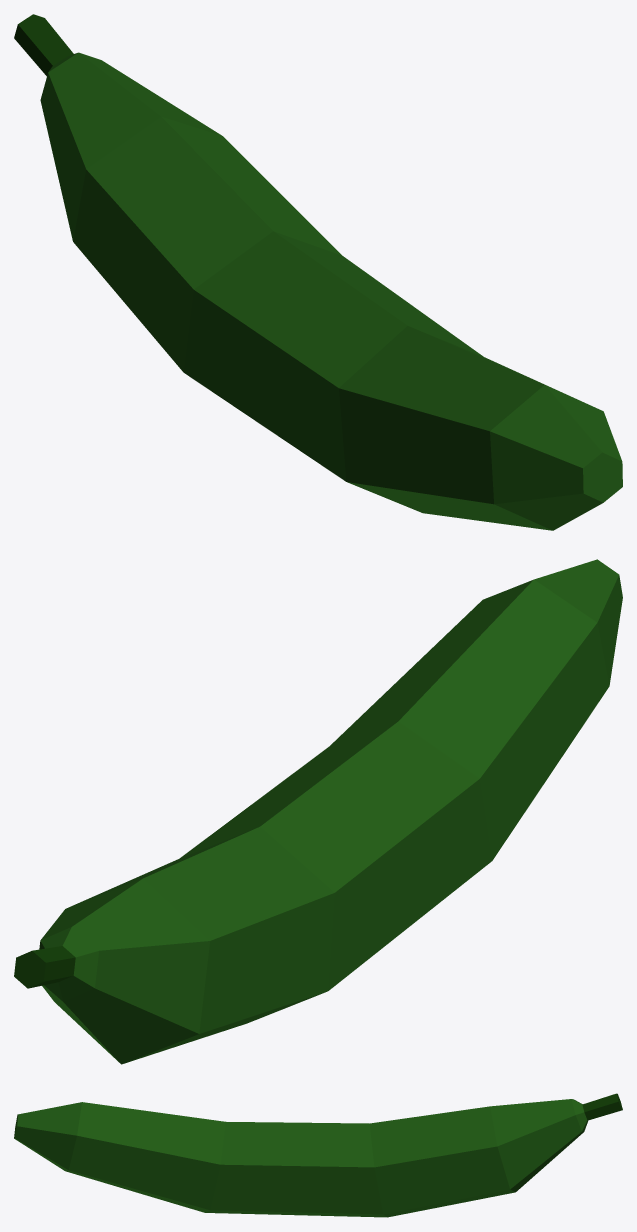
3 views of the same model, one above another, from view 1: azimuth 30°, elevation 25°; view 2: azimuth 150°, elevation 25°; view 3: azimuth 270°, elevation 25° (orthographic). The views are drawn at different scales.
Visible parts, largest first — view 1: Cucumber_Cylinder.007; view 2: Cucumber_Cylinder.007; view 3: Cucumber_Cylinder.007.
Boxes of the visible parts, x1,y1,x2,y2 form: Cucumber_Cylinder.007: [14, 14, 622, 530]; Cucumber_Cylinder.007: [14, 559, 622, 1064]; Cucumber_Cylinder.007: [14, 1093, 622, 1217].
Bounding box in the file's own units: 1.31 × 1.89 × 8.51.
Materials: 1 (1 with a texture image).
